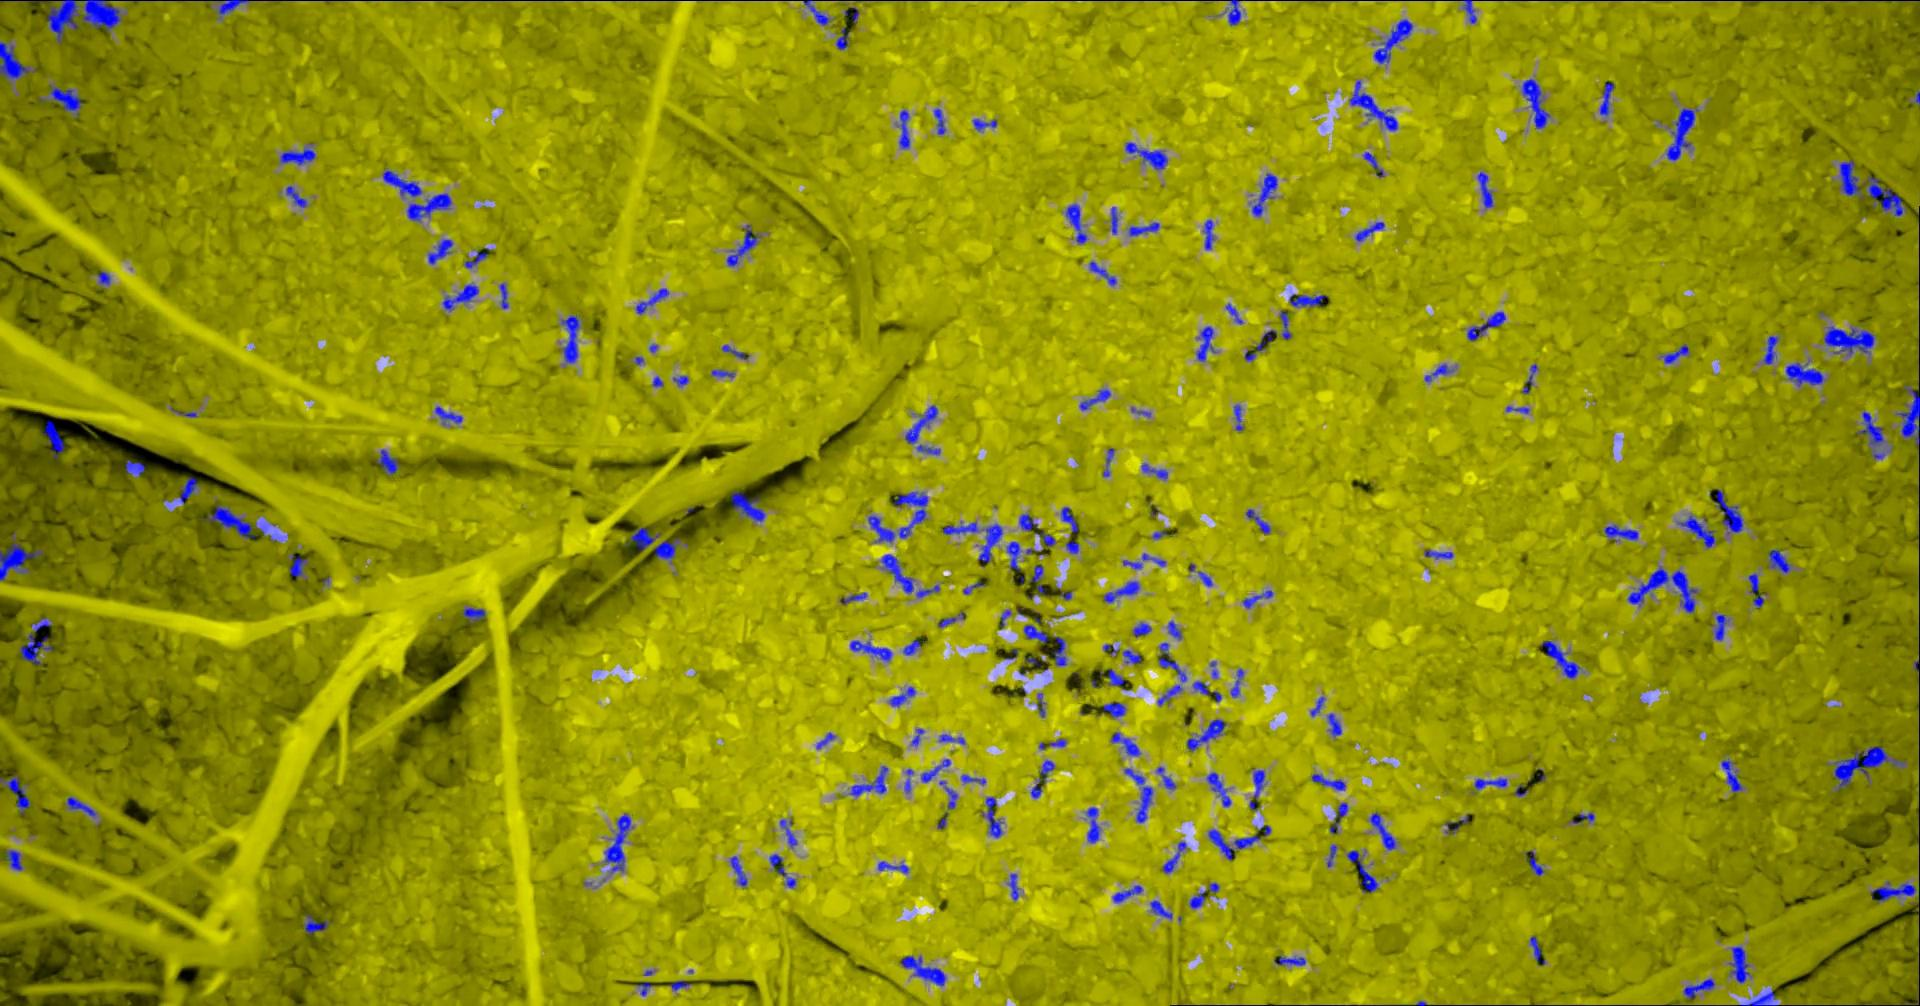ant: (1629, 567, 1698, 612), (869, 492, 930, 542), (1835, 746, 1905, 789), (1351, 80, 1399, 130), (1, 533, 44, 580), (202, 503, 257, 539), (1375, 18, 1415, 64), (905, 404, 941, 453), (1669, 108, 1700, 160), (1865, 175, 1905, 216), (606, 813, 632, 873), (1209, 829, 1261, 859), (1543, 640, 1582, 678), (1126, 768, 1154, 822), (1898, 381, 1920, 450), (728, 224, 762, 265), (1523, 77, 1550, 128), (1825, 326, 1876, 354), (902, 955, 947, 984), (1349, 850, 1380, 892), (883, 554, 916, 593), (1716, 489, 1743, 533), (408, 193, 453, 220), (1679, 514, 1716, 547), (1, 775, 32, 814), (1189, 719, 1227, 749), (851, 765, 889, 795), (1468, 311, 1507, 340), (1128, 142, 1170, 169), (1, 41, 30, 79), (1161, 641, 1189, 681), (1253, 173, 1279, 216), (20, 633, 55, 664), (51, 85, 83, 118), (731, 492, 767, 521), (383, 170, 423, 196), (979, 523, 1004, 561), (444, 285, 480, 311), (563, 314, 582, 363), (1371, 812, 1397, 848), (1841, 159, 1864, 199), (770, 854, 797, 887), (1787, 362, 1825, 386), (1032, 760, 1057, 798), (43, 419, 66, 459), (1858, 412, 1884, 445), (1872, 882, 1917, 901), (851, 640, 893, 661), (1067, 203, 1088, 243), (637, 288, 670, 314), (1208, 772, 1232, 807), (984, 796, 1004, 837), (1105, 580, 1142, 602), (1731, 946, 1752, 983), (1164, 841, 1189, 873), (1025, 612, 1049, 643), (922, 758, 952, 782), (1723, 758, 1745, 791), (1081, 387, 1112, 409), (1090, 260, 1117, 285), (1112, 732, 1142, 754), (631, 527, 662, 549), (1251, 767, 1266, 810), (1197, 326, 1217, 361), (805, 0, 830, 25), (429, 239, 455, 264), (1247, 508, 1272, 533), (1685, 978, 1716, 998), (377, 448, 401, 474), (281, 147, 317, 164), (1356, 221, 1385, 241), (1194, 681, 1223, 701), (1749, 572, 1765, 607), (655, 539, 681, 561), (1741, 989, 1779, 1005), (69, 796, 97, 817), (1605, 525, 1639, 541), (1313, 774, 1347, 790), (1331, 801, 1349, 833), (731, 855, 749, 887), (1244, 589, 1274, 608), (940, 780, 959, 809), (466, 246, 491, 268), (1479, 171, 1495, 207), (1662, 344, 1690, 363), (1365, 151, 1385, 177), (180, 476, 201, 502), (891, 686, 917, 706), (1087, 807, 1101, 843), (1601, 83, 1617, 116), (1114, 885, 1144, 902), (1426, 363, 1454, 381), (436, 406, 463, 424), (1770, 549, 1792, 572), (1159, 685, 1183, 705), (305, 913, 329, 934), (1291, 293, 1330, 306), (1523, 363, 1539, 392), (1062, 506, 1079, 532), (287, 185, 309, 207), (781, 819, 797, 847), (943, 521, 979, 533), (1528, 850, 1545, 875), (1765, 335, 1780, 365), (1032, 565, 1048, 594), (218, 0, 250, 14), (1257, 329, 1277, 351), (1158, 766, 1177, 789), (1150, 901, 1173, 920), (291, 553, 309, 577), (1446, 815, 1470, 833), (723, 344, 750, 359), (1101, 668, 1126, 685), (5, 848, 24, 870), (1054, 636, 1068, 666), (1531, 935, 1545, 964), (1143, 464, 1170, 479), (900, 109, 910, 149), (1227, 0, 1242, 25), (1130, 222, 1161, 235), (1036, 527, 1057, 546), (1008, 541, 1021, 572), (126, 459, 147, 476), (1716, 614, 1730, 640), (1232, 668, 1244, 697), (463, 607, 488, 622), (879, 861, 910, 873), (1227, 304, 1244, 324), (841, 592, 869, 605), (1204, 218, 1215, 249), (818, 732, 837, 749), (1143, 553, 1167, 567), (1103, 702, 1128, 716), (904, 639, 924, 655), (1476, 779, 1509, 789), (1103, 447, 1115, 476), (935, 108, 947, 133), (1275, 955, 1307, 965), (1464, 0, 1478, 23), (1281, 311, 1293, 339), (1330, 713, 1343, 735), (1040, 738, 1068, 749), (1020, 513, 1039, 530), (1191, 890, 1208, 908), (837, 27, 850, 50), (918, 584, 941, 597), (32, 617, 52, 631), (1312, 696, 1326, 716), (974, 118, 998, 130), (1572, 812, 1596, 823), (1010, 873, 1020, 899), (1170, 620, 1183, 639), (1134, 622, 1153, 636), (1124, 649, 1143, 663), (1426, 549, 1455, 558), (941, 733, 966, 743), (905, 768, 916, 793), (963, 774, 987, 784), (1236, 404, 1244, 431), (1328, 843, 1338, 866), (846, 6, 860, 23), (637, 981, 654, 995), (938, 616, 957, 627), (502, 283, 510, 307), (1199, 572, 1214, 586), (1037, 694, 1046, 716), (98, 271, 112, 285), (670, 981, 692, 989), (712, 370, 737, 377), (1112, 206, 1119, 234), (1507, 405, 1530, 413), (1067, 540, 1079, 553), (674, 375, 690, 385)
